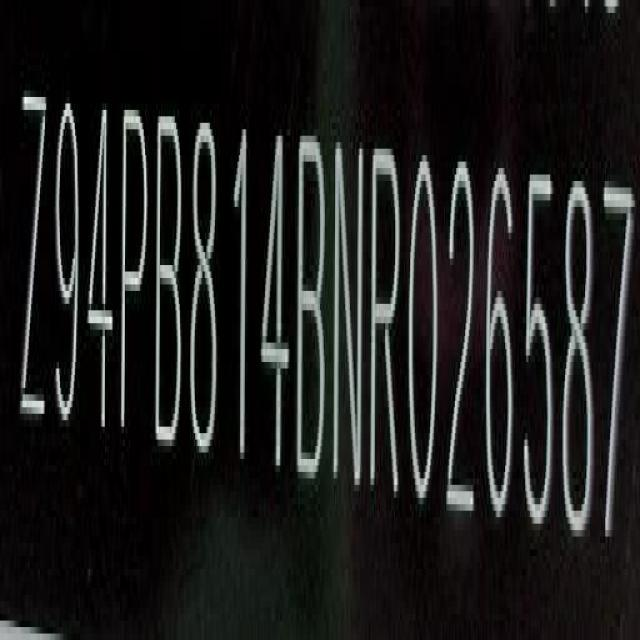0: (406, 146, 440, 503)
1: (233, 124, 252, 467)
2: (444, 160, 475, 520)
4: (84, 103, 117, 433), (261, 132, 290, 479)
5: (524, 174, 555, 532)
6: (484, 165, 516, 520)
7: (602, 180, 634, 544)
8: (564, 165, 594, 556), (188, 105, 221, 455)
9: (50, 91, 80, 419)
B: (294, 132, 328, 484), (154, 103, 182, 450)
N: (333, 144, 367, 486)
P: (119, 106, 150, 438)
R: (370, 148, 402, 498)
Z: (16, 84, 50, 424)
